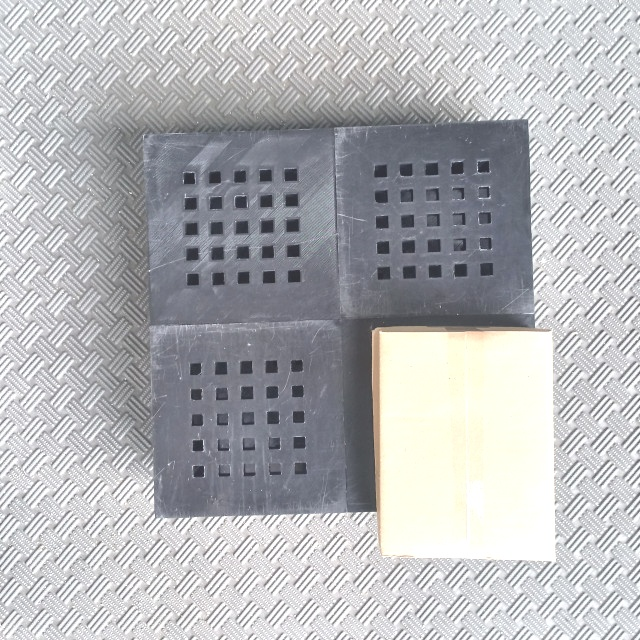box: (370, 324, 553, 560)
pallet: (137, 100, 558, 529)
